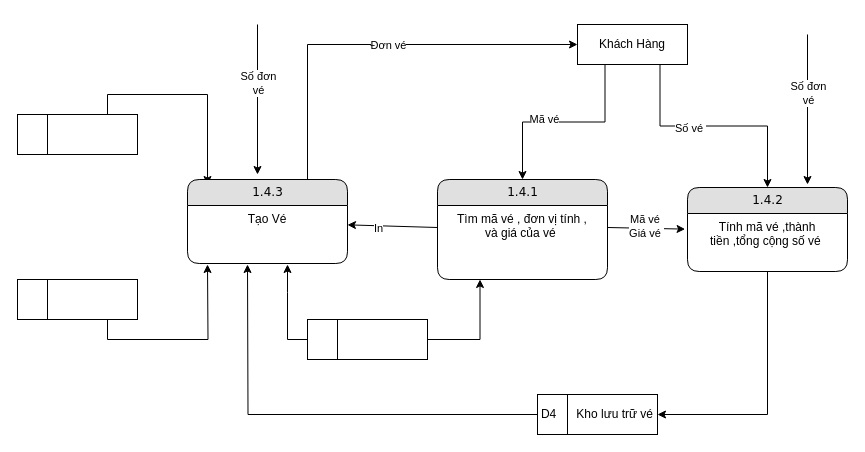
Image size: 865x452. Some labels were removed from this diagram. Here are the shapes that lost their labels. From the top down, the box of each, then its label:
(16, 114, 138, 154): D2 Hành Khách
(16, 278, 138, 320): D3 Dòng Vé
(306, 318, 428, 360): D1 Vé
